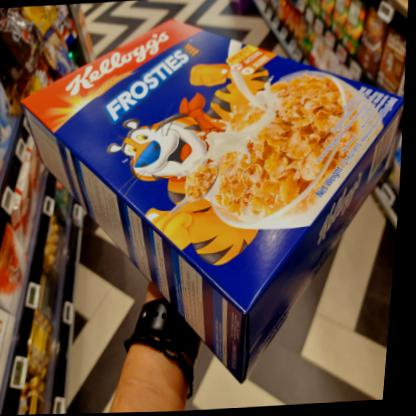i: (0, 2, 414, 405)
